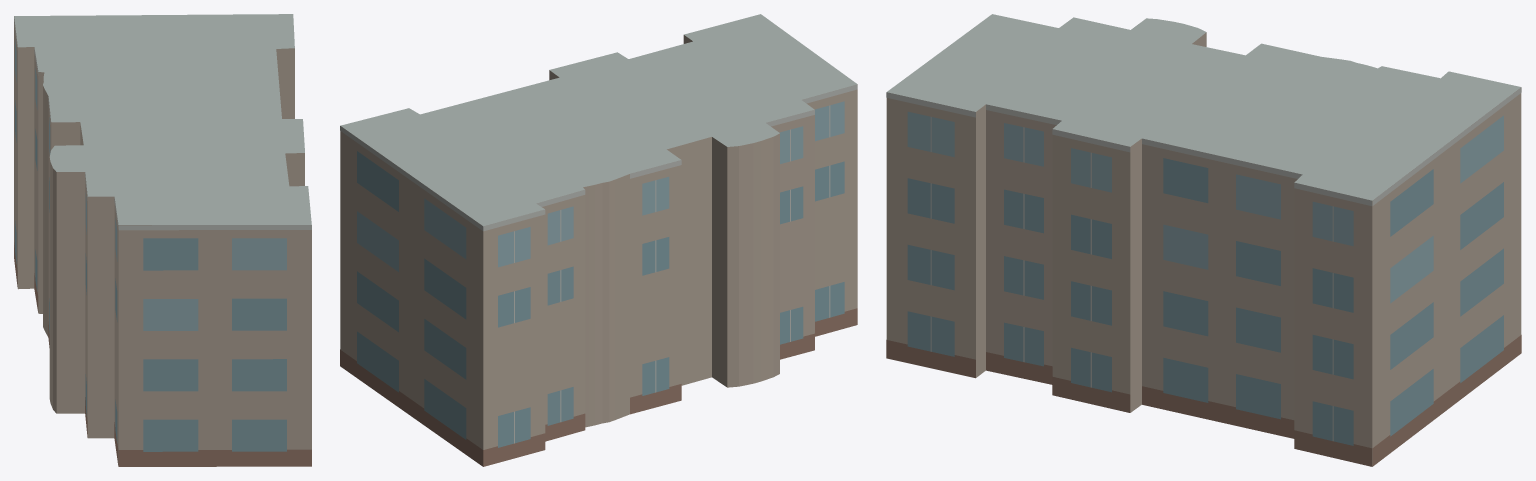
Rendered from survey-upis-32499567.glb.
The picture shows the model from 3 angles, left to right: view 1: azimuth 30°, elevation 25°; view 2: azimuth 150°, elevation 25°; view 3: azimuth 270°, elevation 25°; orthographic projection. The views are drawn at different scales.
Parts seen in each view (by area): view 1: survey-upis-32499567.tmp; view 2: survey-upis-32499567.tmp; view 3: survey-upis-32499567.tmp.
Boxes of the visible parts, x1,y1,x2,y2 form: survey-upis-32499567.tmp: (14, 14, 311, 466); survey-upis-32499567.tmp: (340, 14, 857, 466); survey-upis-32499567.tmp: (886, 14, 1521, 466).
Bounding box in the file's own units: 17.3 × 11.5 × 24.87.
